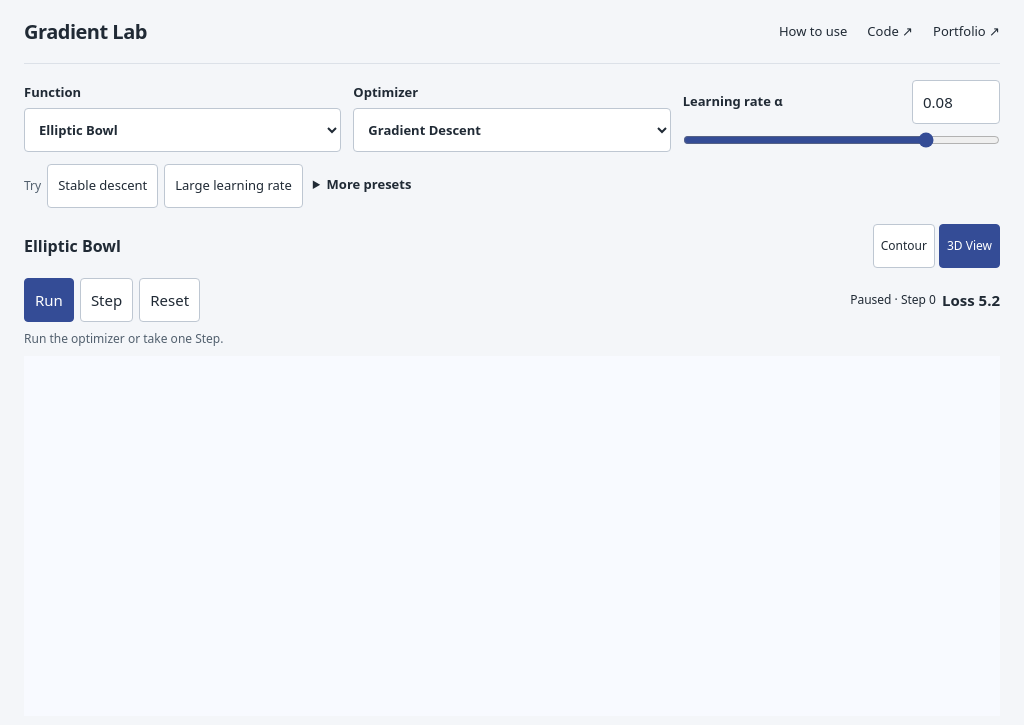
Test: starts paused, steps, and resets the same experiment
This screenshot has width=1024, height=725.
Expected: the button with aria-label "Run animation" is shown, 24,278 -> 74,322
Expected: the dropdown labelled "Function" shows "Elliptic Bowl", 24,108 -> 341,152
Click the button "Step" at coordinates (107, 300), box 80,278 -> 133,322
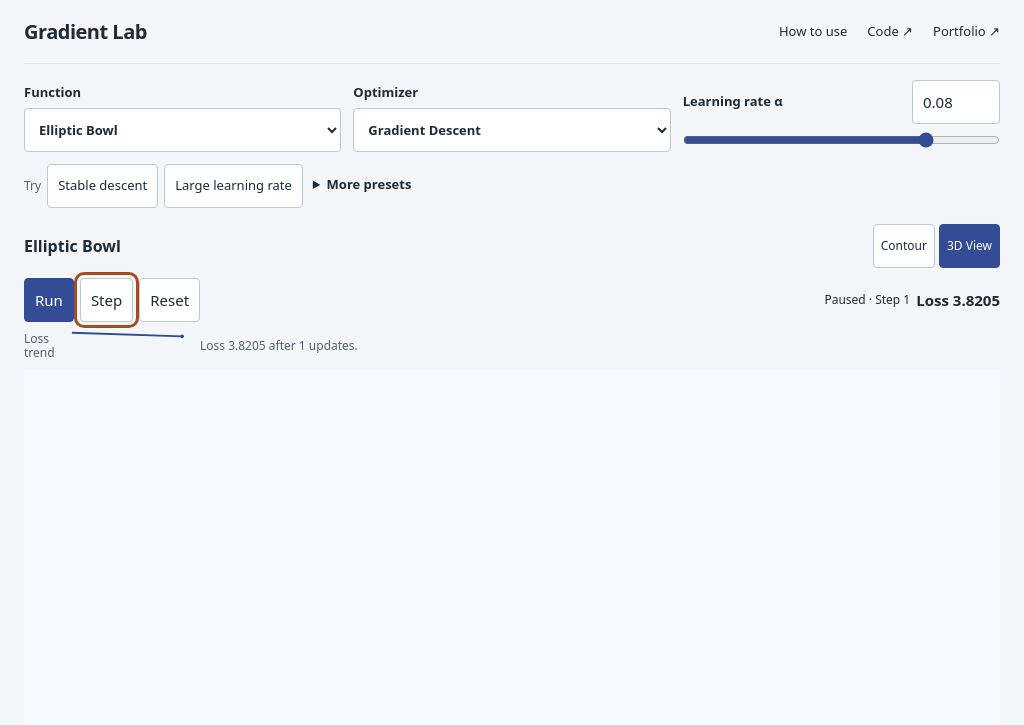
Now the text "Paused · Step 1" is shown, box 824,291 -> 910,309
Click the button "Reset" at coordinates (170, 300), box 139,278 -> 200,322
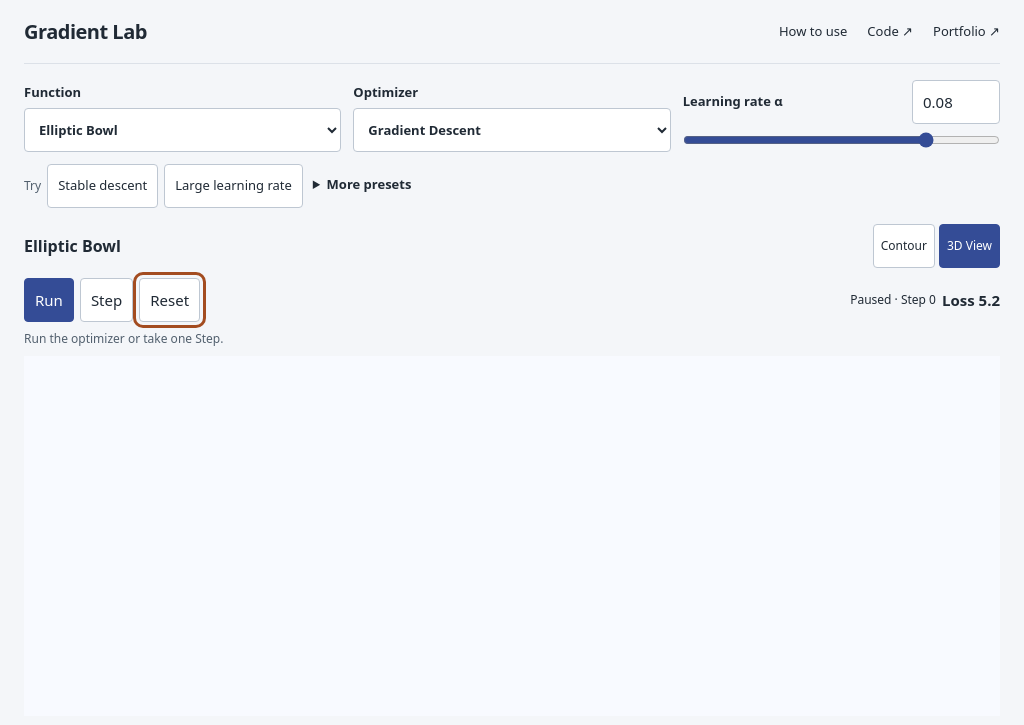
Now the text "Paused · Step 0" is shown, box 850,291 -> 936,309
